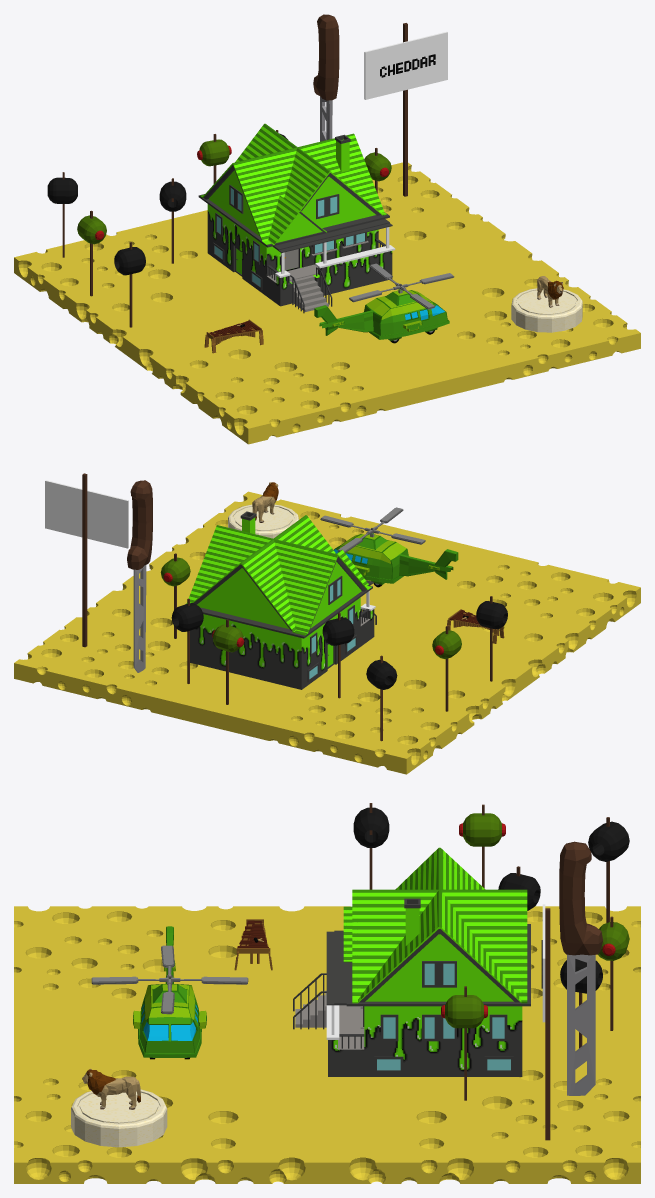
The picture shows the model from 3 angles, top to bottom: view 1: azimuth 30°, elevation 25°; view 2: azimuth 150°, elevation 25°; view 3: azimuth 270°, elevation 25°; orthographic projection. The views are drawn at different scales.
Visible parts, largest first — view 1: Cube.022, Cube.754, VEHICLES_HELICOPTER, Cube.023, Cylinder.016, Cube.024, Sphere.017, Sphere.016, Sphere.020, OBJRANDOM_MARIMBA, Sphere.018, Sphere.022 (+1 smaller); view 2: Cube.022, Cube.754, Cube.023, VEHICLES_HELICOPTER, Cube.024, Cylinder.016, Sphere.017, Sphere.020, Sphere.021, Sphere.016, Sphere.018, Sphere.022 (+3 smaller); view 3: Cube.022, Cube.754, Cube.024, VEHICLES_HELICOPTER, Cylinder.016, Cube.023, Sphere.019, Sphere.016, Sphere.018, Sphere.017, ANIMAL_LEON, Sphere.022 (+3 smaller).
Boxes of the visible parts, bbox=[...] form: Cube.022: bbox=[14, 162, 640, 444]; Cube.754: bbox=[198, 123, 395, 313]; VEHICLES_HELICOPTER: bbox=[314, 263, 454, 343]; Cube.023: bbox=[364, 23, 447, 196]; Cylinder.016: bbox=[511, 288, 582, 332]; Cube.024: bbox=[313, 14, 339, 141]; Sphere.017: bbox=[114, 242, 145, 327]; Sphere.016: bbox=[47, 172, 77, 257]; Sphere.020: bbox=[159, 178, 186, 263]; OBJRANDOM_MARIMBA: bbox=[204, 319, 263, 353]; Sphere.018: bbox=[77, 210, 106, 296]; Sphere.022: bbox=[197, 134, 231, 183]; Cube.022: bbox=[14, 491, 640, 774]; Cube.754: bbox=[185, 511, 376, 689]; Cube.023: bbox=[45, 473, 128, 647]; VEHICLES_HELICOPTER: bbox=[320, 507, 458, 587]; Cube.024: bbox=[127, 480, 152, 672]; Cylinder.016: bbox=[228, 504, 298, 538]; Sphere.017: bbox=[476, 596, 507, 681]; Sphere.020: bbox=[322, 612, 354, 698]; Sphere.021: bbox=[171, 598, 203, 683]; Sphere.016: bbox=[366, 655, 397, 741]; Sphere.018: bbox=[432, 626, 461, 711]; Sphere.022: bbox=[212, 619, 244, 704]; Cube.022: bbox=[14, 906, 640, 1183]; Cube.754: bbox=[293, 847, 530, 1076]; Cube.024: bbox=[559, 841, 602, 1095]; VEHICLES_HELICOPTER: bbox=[91, 926, 248, 1059]; Cylinder.016: bbox=[71, 1089, 167, 1147]; Cube.023: bbox=[541, 904, 550, 1140]; Sphere.019: bbox=[441, 986, 487, 1100]; Sphere.016: bbox=[588, 817, 629, 922]; Sphere.018: bbox=[459, 804, 505, 888]; Sphere.017: bbox=[353, 803, 389, 889]; ANIMAL_LEON: bbox=[82, 1068, 140, 1109]; Sphere.022: bbox=[598, 916, 629, 1030].
Size of the model in its own units: 3917 by 2010 by 4000.
37 materials, 4 textured.
